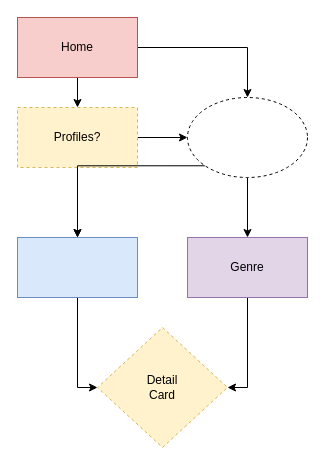
Some shapes in this 325 by 465 pixel diagram are drawn without their labels. Here are the shapes that lost their labels. From the top down, the box of each, then its label:
(186, 96, 308, 178): CHUD
(16, 236, 138, 298): Watchlist
